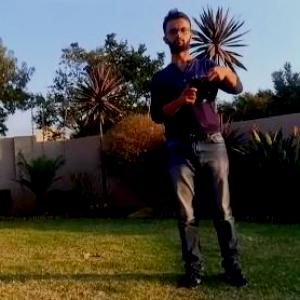follow: (147, 0, 257, 295)
